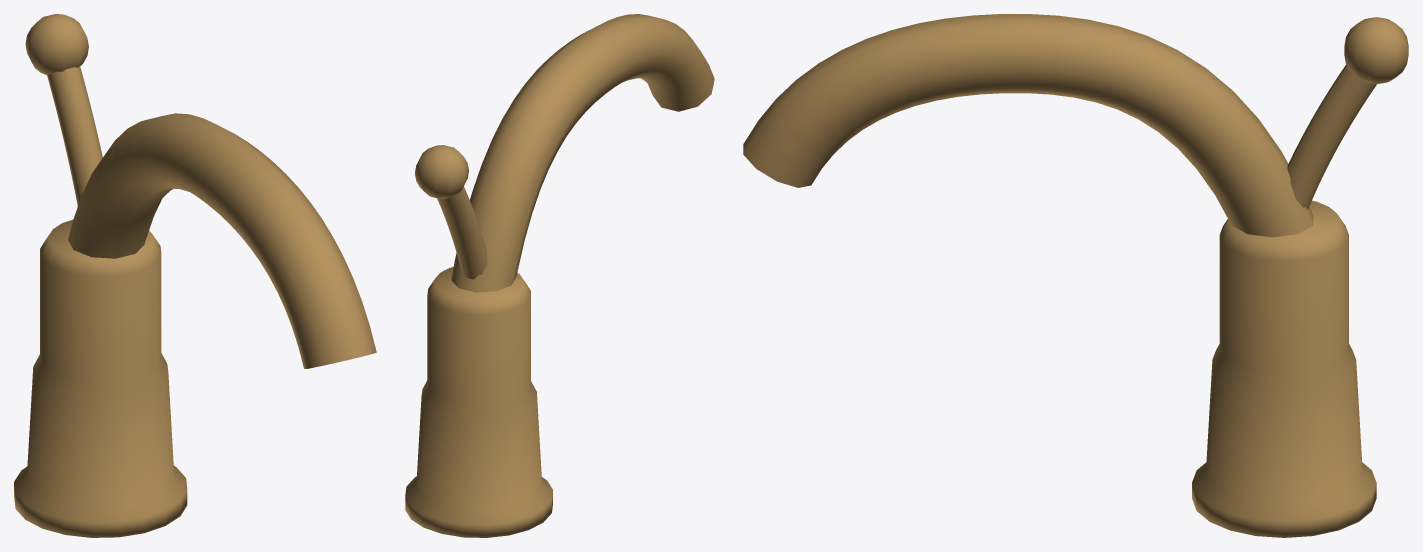
Rendered from a_faucet_low_2.glb.
3 views of the same model, side by side, from view 1: azimuth 30°, elevation 25°; view 2: azimuth 150°, elevation 25°; view 3: azimuth 270°, elevation 25° (orthographic). The views are drawn at different scales.
Parts seen in each view (by area): view 1: o, o.001, o.002, o.003; view 2: o, o.001, o.002, o.003; view 3: o.001, o, o.002, o.003.
Part boxes in pixels (x1,y1,x2,y2): o: [14, 219, 187, 537]; o.001: [68, 113, 376, 368]; o.002: [47, 66, 102, 206]; o.003: [25, 14, 88, 75]; o: [405, 267, 552, 537]; o.001: [451, 14, 714, 292]; o.002: [437, 186, 487, 279]; o.003: [415, 145, 468, 198]; o.001: [743, 14, 1313, 237]; o: [1192, 200, 1376, 537]; o.002: [1287, 65, 1376, 209]; o.003: [1344, 17, 1408, 84].
Size of the model in its own units: 0.06 by 0.1723 by 0.2165.
